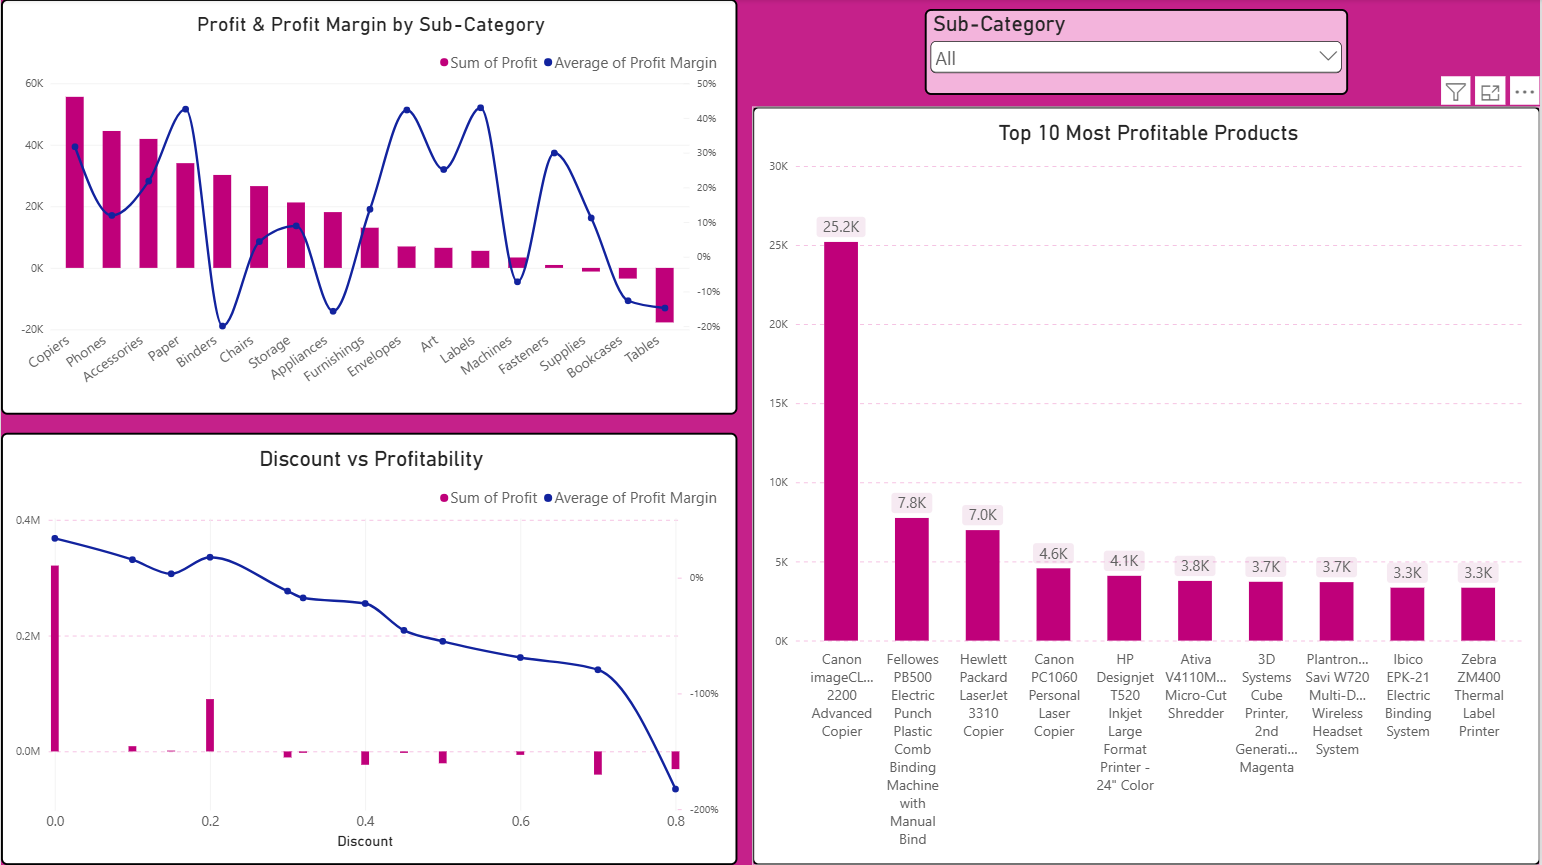

The page's visual inventory and layout, read from the dashboard file:
{"tool":"powerbi","page":{"name":"Profitability Analysis","canvas":[1920,1080],"ordinal":1},"visuals":[{"type":"lineClusteredColumnComboChart","title":"Profit & Profit Margin by Sub-Category","fields":{"Category":["csv cleaned sales profitability analysis.Sub-Category"],"Y":["Sum(csv cleaned sales profitability analysis.Profit)"],"Y2":["Avg(csv cleaned sales profitability analysis.Profit Margin)"]},"box":[0,0,918.5,518.5],"z":0},{"type":"clusteredColumnChart","title":"Top 10 Most Profitable Products","fields":{"Category":["csv cleaned sales profitability analysis.Product Name"],"Y":["Sum(csv cleaned sales profitability analysis.Profit)"]},"box":[937,133.3,983.3,946.3],"z":1},{"type":"lineClusteredColumnComboChart","title":"Discount vs Profitability","fields":{"Category":["csv cleaned sales profitability analysis.Discount"],"Y":["Sum(csv cleaned sales profitability analysis.Profit)"],"Y2":["Avg(csv cleaned sales profitability analysis.Profit Margin)"]},"box":[0,540.7,918.5,538.9],"z":2},{"type":"slicer","fields":{"Values":["csv cleaned sales profitability analysis.Sub-Category"]},"box":[1151.9,13,527.8,107.4],"z":3}]}

Visuals, with their boxes in screenshot pixels (x1, y1, x2, y2), scaled from the page's 1920x1080 canvas onto the 1542x865 screenshot:
"Profit & Profit Margin by Sub-Category" lineClusteredColumnComboChart: <region>0, 0, 738, 415</region>
"Top 10 Most Profitable Products" clusteredColumnChart: <region>753, 107, 1541, 864</region>
"Discount vs Profitability" lineClusteredColumnComboChart: <region>0, 433, 738, 864</region>
slicer - csv cleaned sales profitability analysis.Sub-Category: <region>925, 10, 1349, 96</region>
